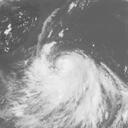cyclone: (23, 50, 108, 122)
